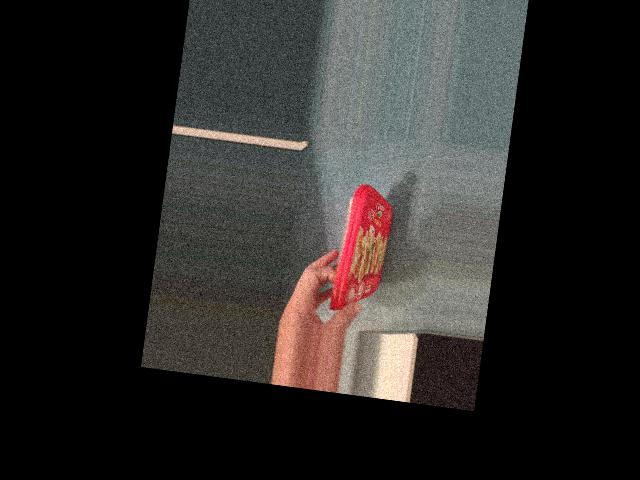cheese: (320, 184, 395, 314)
